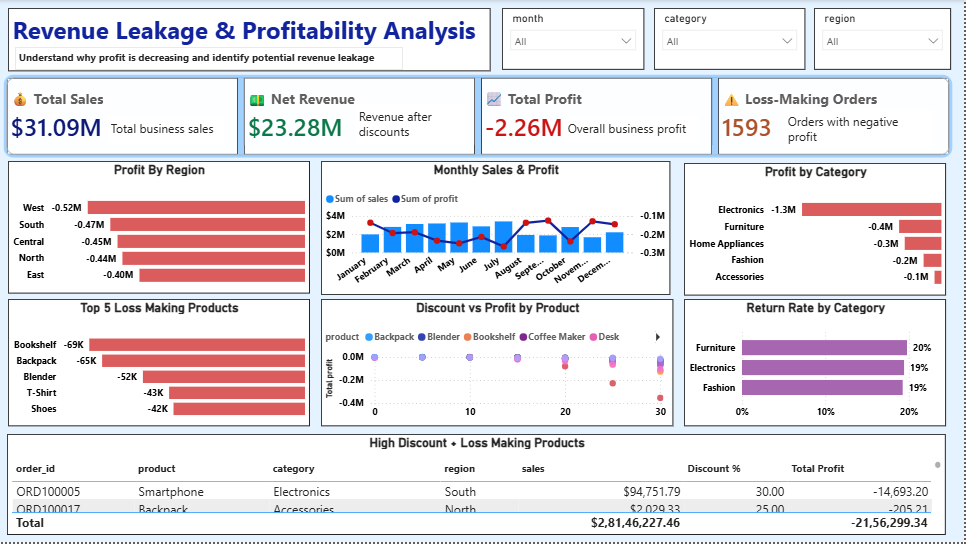

Layout of this report page (visuals, bound fields, positions):
{"tool":"powerbi","page":{"name":"Dashboard","canvas":[1280,720],"ordinal":0},"visuals":[{"type":"textbox","box":[10.1,10.1,640.8,83.5],"z":0},{"type":"textbox","box":[20.5,62.9,515.5,30.2],"z":1000},{"type":"cardVisual","fields":{"Data":["Sum(public revenue_leakage.sales)","Sum(public revenue_leakage.net_revenue)","public revenue_leakage.Total Profit","CountNonNull(public revenue_leakage.order_id)"]},"box":[0,93.7,1271.7,120],"z":2000},{"type":"slicer","fields":{"Values":["public revenue_leakage.month"]},"box":[666.9,10.6,188.6,82.4],"z":3000},{"type":"slicer","fields":{"Values":["public revenue_leakage.category"]},"box":[868.8,10.6,200.6,82.4],"z":4000},{"type":"slicer","fields":{"Values":["public revenue_leakage.region"]},"box":[1081.3,10.6,182,82.4],"z":5000},{"type":"textbox","box":[142,153.7,155.1,36.6],"z":6000},{"type":"textbox","box":[471.2,137.6,146.3,52.7],"z":7000},{"type":"textbox","box":[749.3,153.7,178.5,33.7],"z":8000},{"type":"textbox","box":[1041.5,144.8,197.9,53.1],"z":9000},{"type":"lineStackedColumnComboChart","title":"Monthly Sales & Profit","fields":{"Category":["public revenue_leakage.order_date.Variation.Date Hierarchy.Month"],"Y":["Sum(public revenue_leakage.sales)"],"Y2":["Sum(public revenue_leakage.profit)"]},"box":[426.7,213.3,463.8,177.5],"z":10000},{"type":"clusteredBarChart","title":"Profit By Region","fields":{"Category":["public revenue_leakage.region"],"Y":["Sum(public revenue_leakage.profit)"]},"box":[11,213.3,400.5,176.2],"z":11000},{"type":"barChart","title":"Profit by Category","fields":{"Category":["public revenue_leakage.category"],"Y":["Sum(public revenue_leakage.profit)"]},"box":[908.4,216.1,348.2,176.2],"z":12000},{"type":"clusteredBarChart","title":"Top 5 Loss Making Products","fields":{"Category":["public revenue_leakage.product"],"Y":["Sum(public revenue_leakage.profit)"]},"box":[11,397.8,400.5,169.3],"z":13000},{"type":"scatterChart","title":"Discount vs Profit by Product","fields":{"X":["public revenue_leakage.discount_percent"],"Y":["Sum(public revenue_leakage.profit)"],"Series":["public revenue_leakage.product"]},"box":[426.7,397.8,468,169.3],"z":14000},{"type":"barChart","title":"Return Rate by Category","fields":{"Category":["public revenue_leakage.category"],"Y":["public revenue_leakage.Return_rate"]},"box":[908.4,397.8,348.2,169.3],"z":15000},{"type":"tableEx","title":"High Discount + Loss Making Products","fields":{"Values":["public revenue_leakage.order_id","public revenue_leakage.product","public revenue_leakage.category","public revenue_leakage.region","Sum(public revenue_leakage.sales)","public revenue_leakage.discount_percent","public revenue_leakage.Total Profit"]},"box":[9.3,576.5,1247,133.5],"z":16000}]}

Visuals, with their boxes in screenshot pixels (x1, y1, x2, y2), scaled from the page's 1280x720 canvas onto the 966x544 screenshot:
textbox: x1=8, y1=8, x2=491, y2=71
textbox: x1=15, y1=48, x2=405, y2=70
cardVisual - Sum(public revenue_leakage.sales) x Sum(public revenue_leakage.net_revenue): x1=0, y1=71, x2=960, y2=161
slicer - public revenue_leakage.month: x1=503, y1=8, x2=646, y2=70
slicer - public revenue_leakage.category: x1=656, y1=8, x2=807, y2=70
slicer - public revenue_leakage.region: x1=816, y1=8, x2=953, y2=70
textbox: x1=107, y1=116, x2=224, y2=144
textbox: x1=356, y1=104, x2=466, y2=144
textbox: x1=565, y1=116, x2=700, y2=142
textbox: x1=786, y1=109, x2=935, y2=150
"Monthly Sales & Profit" lineStackedColumnComboChart: x1=322, y1=161, x2=672, y2=295
"Profit By Region" clusteredBarChart: x1=8, y1=161, x2=311, y2=294
"Profit by Category" barChart: x1=686, y1=163, x2=948, y2=296
"Top 5 Loss Making Products" clusteredBarChart: x1=8, y1=301, x2=311, y2=428
"Discount vs Profit by Product" scatterChart: x1=322, y1=301, x2=675, y2=428
"Return Rate by Category" barChart: x1=686, y1=301, x2=948, y2=428
"High Discount + Loss Making Products" tableEx: x1=7, y1=436, x2=948, y2=536
